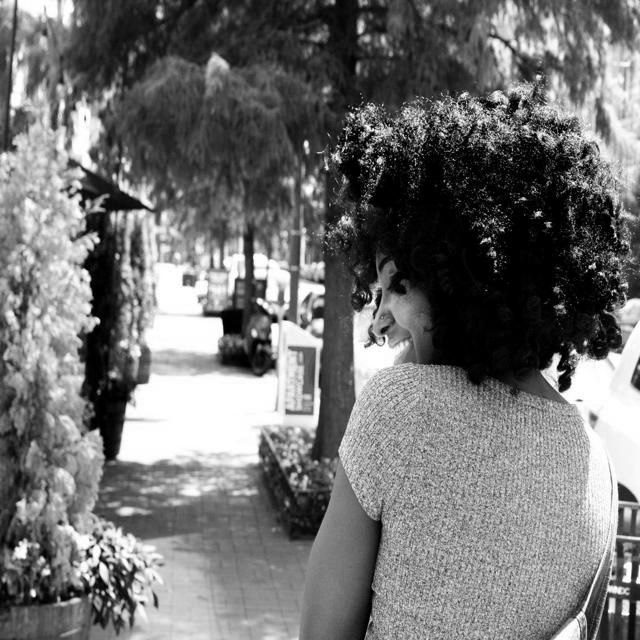Happiness: (345, 242, 460, 375)
